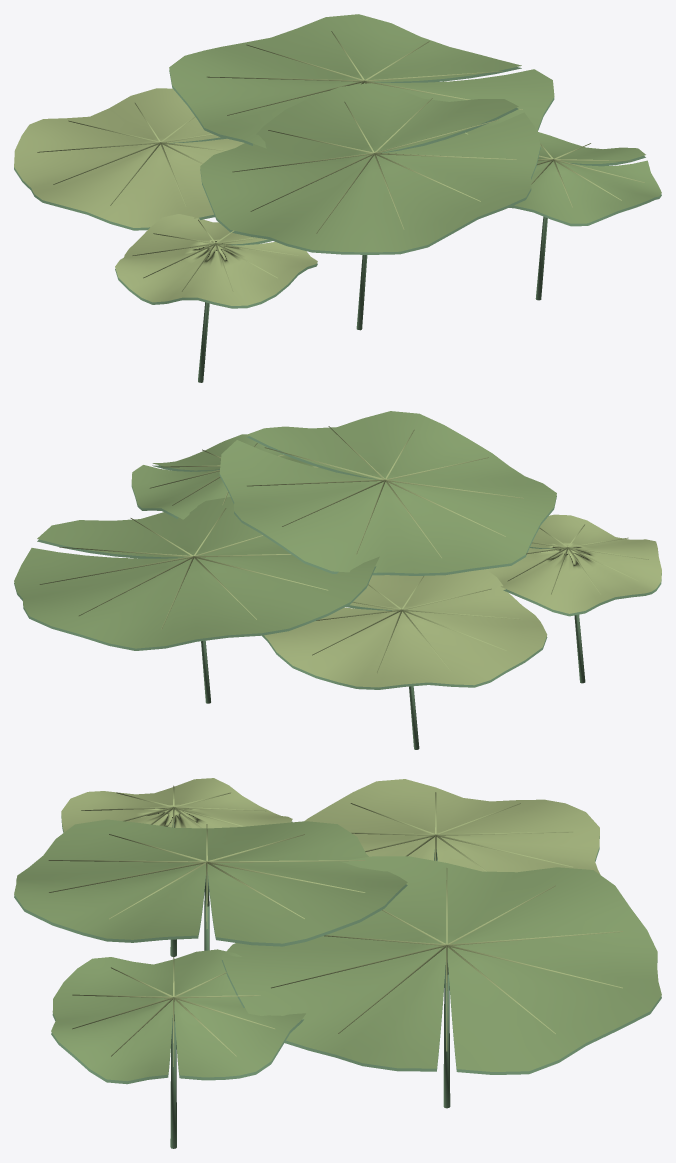
Rendered from north_lily.glb.
3 views of the same model, one above another, from view 1: azimuth 30°, elevation 25°; view 2: azimuth 150°, elevation 25°; view 3: azimuth 270°, elevation 25° (orthographic). The views are drawn at different scales.
Parts seen in each view (by area): view 1: north_lily_Leaf, north_lily_LeafLight, north_lily_LeafDark; view 2: north_lily_Leaf, north_lily_LeafLight, north_lily_LeafDark; view 3: north_lily_Leaf, north_lily_LeafLight, north_lily_LeafDark.
Boxes of the visible parts, x1,y1,x2,y2 form: north_lily_Leaf: [169, 14, 661, 252]; north_lily_LeafLight: [14, 31, 644, 305]; north_lily_LeafDark: [14, 67, 661, 382]; north_lily_Leaf: [14, 411, 556, 648]; north_lily_LeafLight: [39, 426, 661, 687]; north_lily_LeafDark: [14, 436, 661, 749]; north_lily_Leaf: [14, 819, 661, 1081]; north_lily_LeafLight: [48, 778, 622, 1066]; north_lily_LeafDark: [14, 816, 661, 1148].
Size of the model in its own units: 1.9 by 0.6276 by 1.76.
